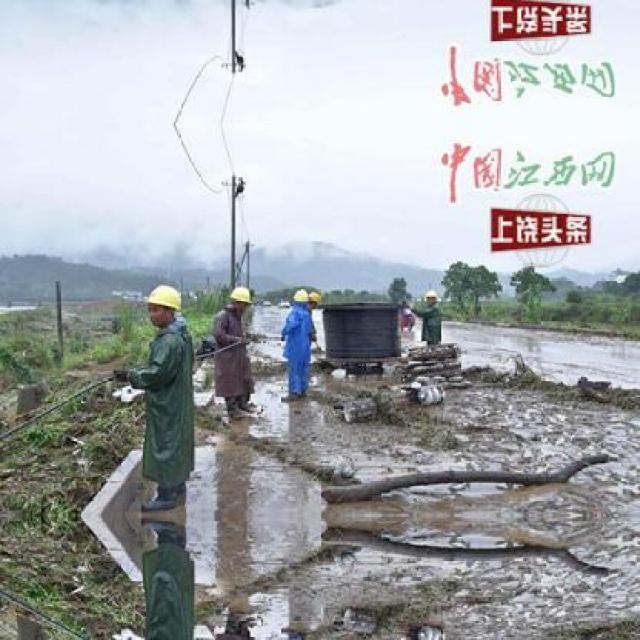helmet: (142, 281, 182, 325), (227, 282, 253, 312), (286, 286, 308, 308), (421, 287, 441, 307), (305, 290, 323, 310)
